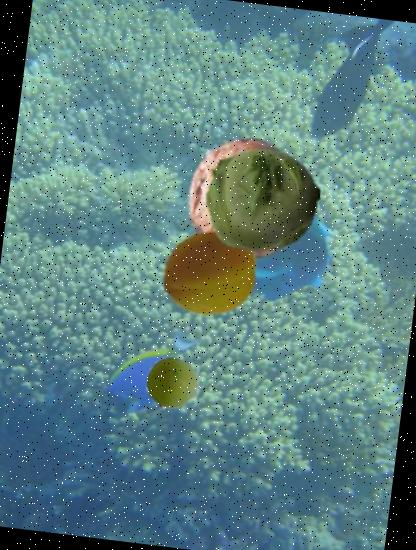Grape: (142, 354, 202, 412)
Kohlrabi: (199, 136, 326, 264)
Peach: (157, 220, 262, 326)
Walnut: (178, 131, 315, 269)
